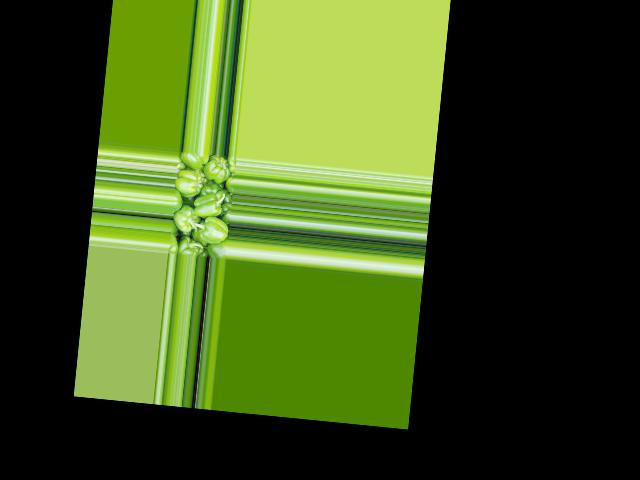bell_pepper: (207, 235, 228, 260)
